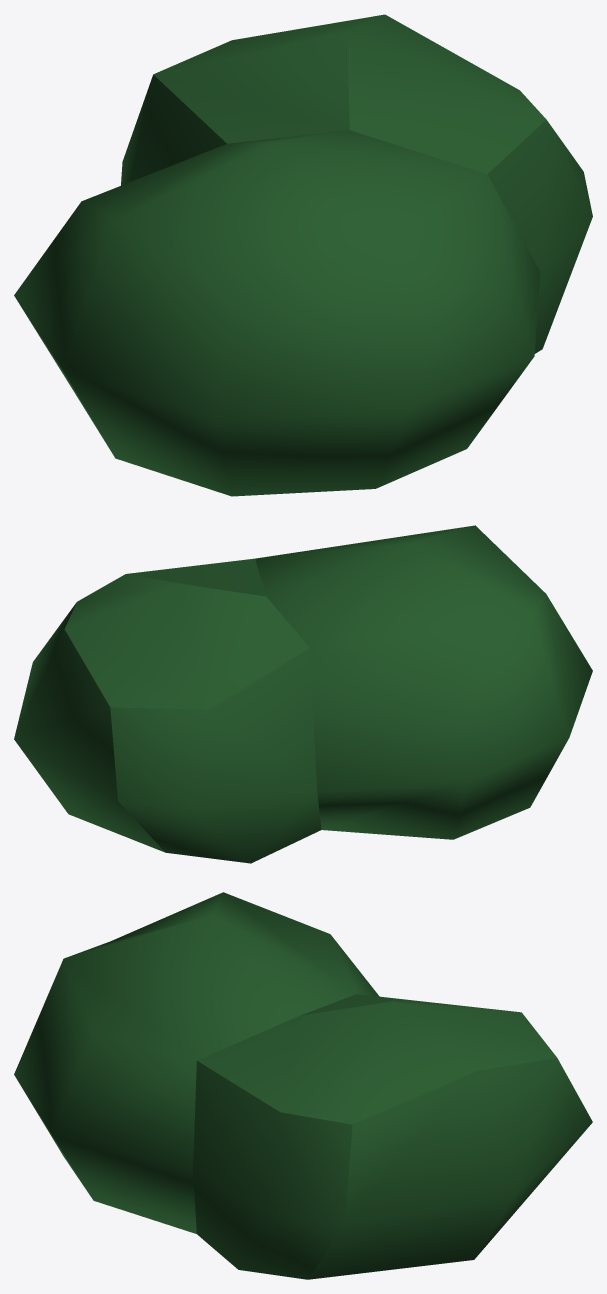
The model's file is arbusto_01.fbx.
The picture shows the model from 3 angles, top to bottom: view 1: azimuth 30°, elevation 25°; view 2: azimuth 150°, elevation 25°; view 3: azimuth 270°, elevation 25°; orthographic projection. The views are drawn at different scales.
Visible parts, largest first — view 1: arbusto_01; view 2: arbusto_01; view 3: arbusto_01.
Part boxes in pixels (x1,y1,x2,y2): arbusto_01: [14, 14, 592, 496]; arbusto_01: [14, 525, 592, 863]; arbusto_01: [14, 892, 592, 1279].
Bounding box in the file's own units: 3.8 × 1.79 × 3.88.
